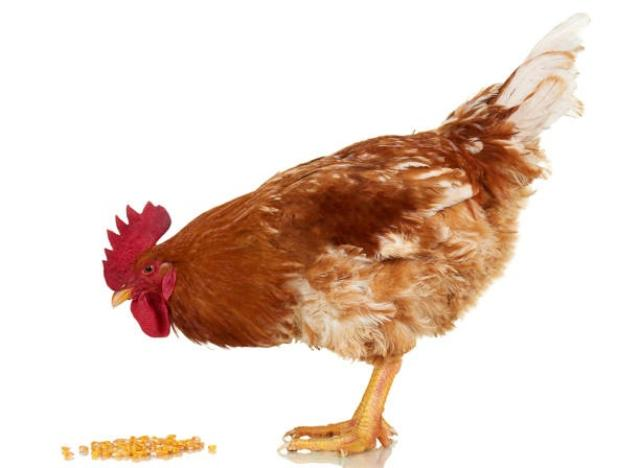Chicken: (100, 12, 589, 457)
